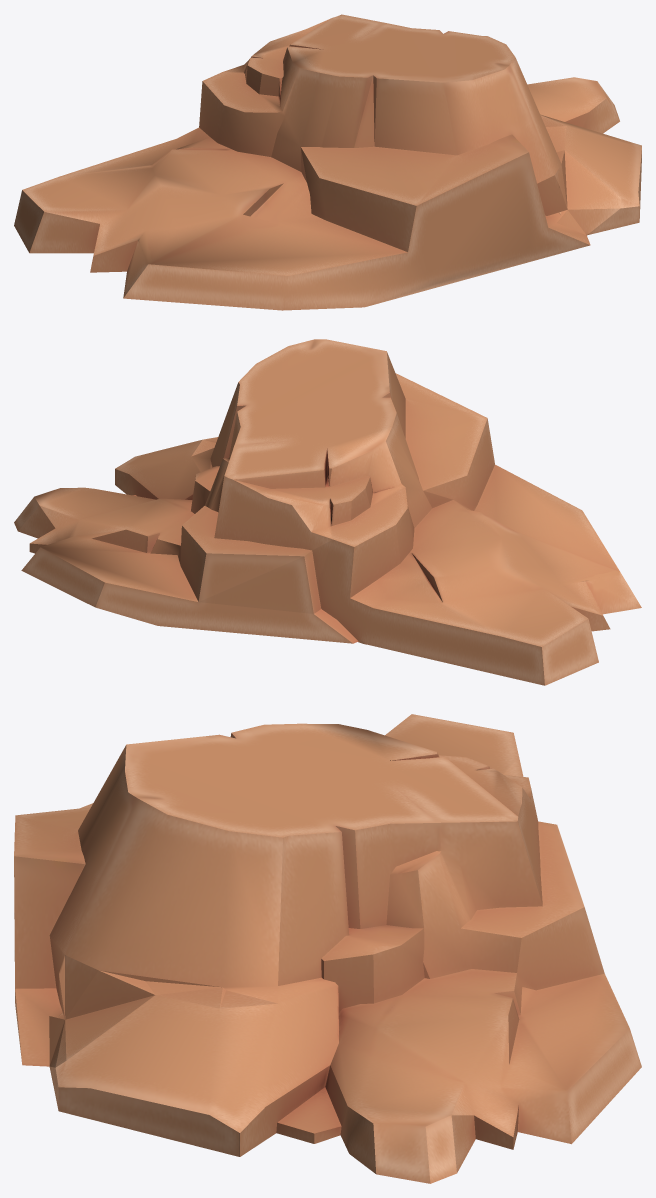
Rendered from Rock 7.fbx.
3 views of the same model, one above another, from view 1: azimuth 30°, elevation 25°; view 2: azimuth 150°, elevation 25°; view 3: azimuth 270°, elevation 25° (orthographic). The views are drawn at different scales.
Parts seen in each view (by area): view 1: Rock_7; view 2: Rock_7; view 3: Rock_7.
Part boxes in pixels (box(x1,y1,x2,y2)): Rock_7: box(14, 14, 641, 310); Rock_7: box(14, 339, 641, 685); Rock_7: box(14, 714, 641, 1183).
Size of the model in its own units: 10.91 by 2.99 by 6.86.
